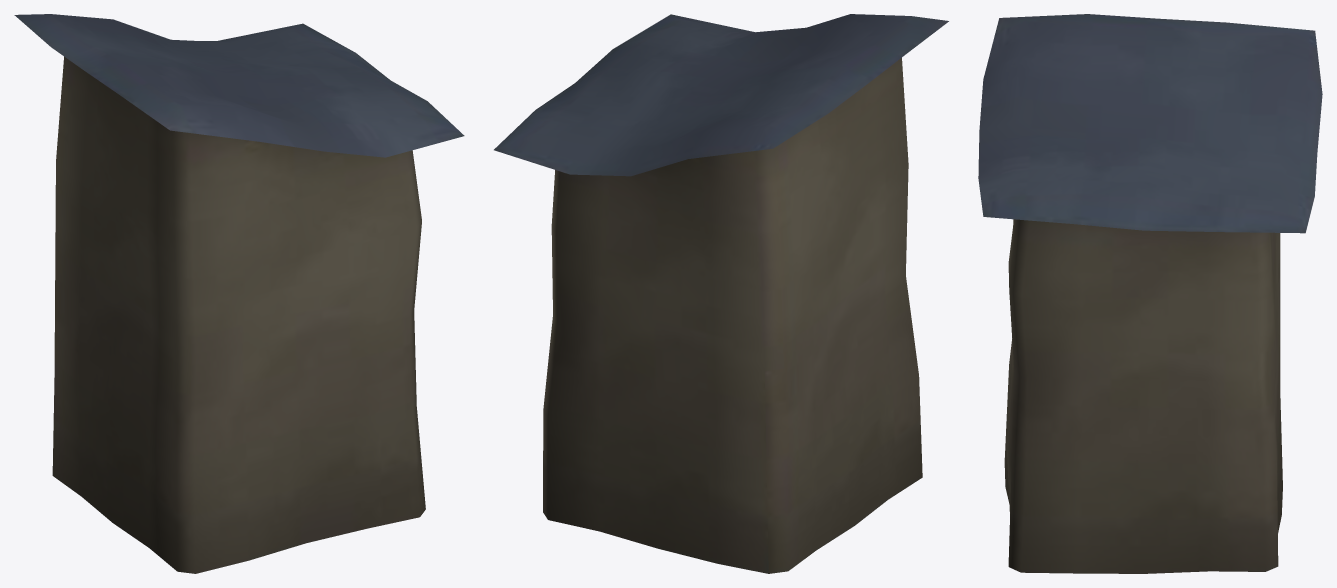
Rendered from MSH_Building_014.glb.
3 views of the same model, side by side, from view 1: azimuth 30°, elevation 25°; view 2: azimuth 150°, elevation 25°; view 3: azimuth 270°, elevation 25° (orthographic). The views are drawn at different scales.
Parts seen in each view (by area): view 1: Base.006; view 2: Base.006; view 3: Base.006.
Part boxes in pixels (x1,y1,x2,y2): Base.006: (14,14,464,573); Base.006: (494,14,948,573); Base.006: (978,14,1322,573).
Bounding box in the file's own units: 6.27 × 9.11 × 6.47.
1 material, 1 textured.
